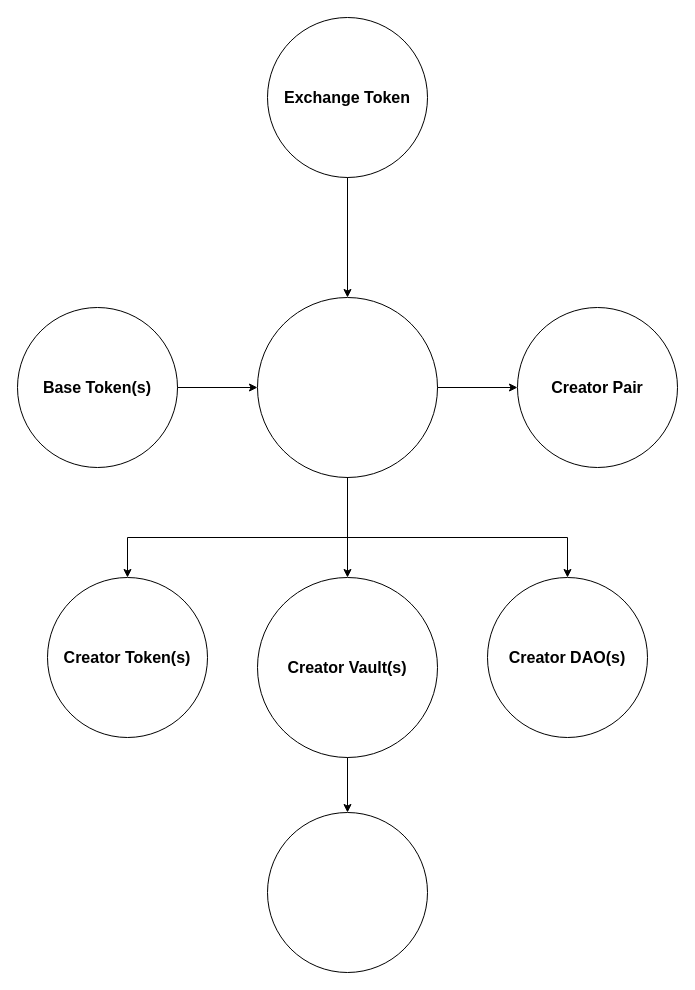
Image size: 695x990. Some labels were removed from this diagram. The box of each missing label's shape, as (x1, y1, x2, y2) in pixels:
Creator Factory: (256, 296, 438, 478)
Creator NFT: (266, 812, 428, 972)
